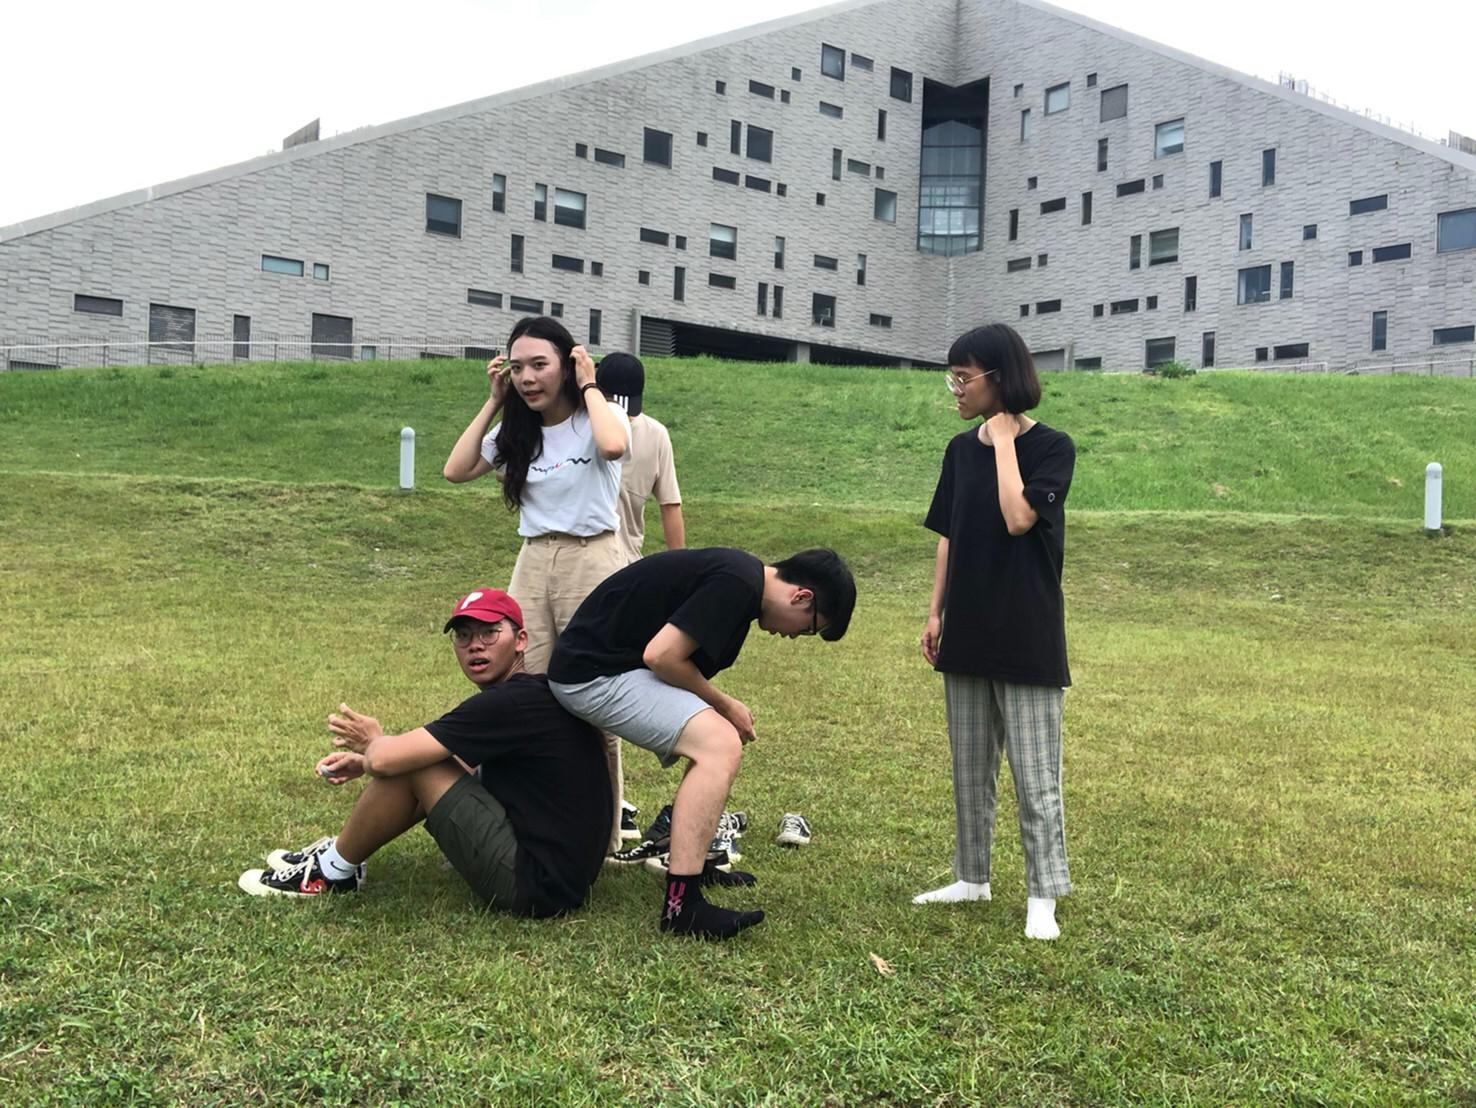people: (907, 336, 1076, 940), (551, 532, 801, 925), (368, 588, 614, 913), (493, 330, 624, 659), (580, 375, 682, 559)
